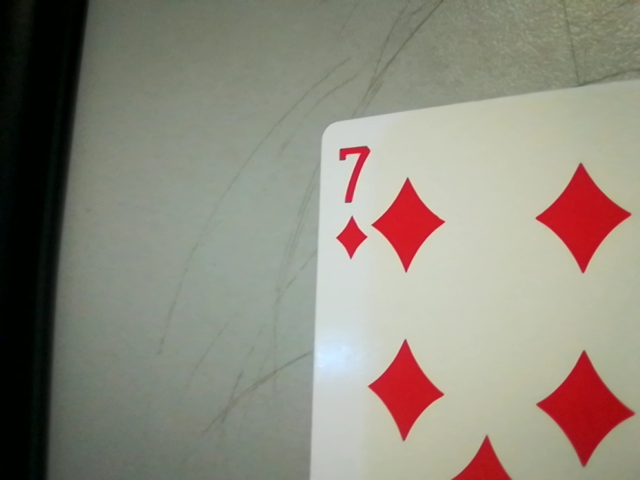fk 7: (321, 131, 377, 263)
